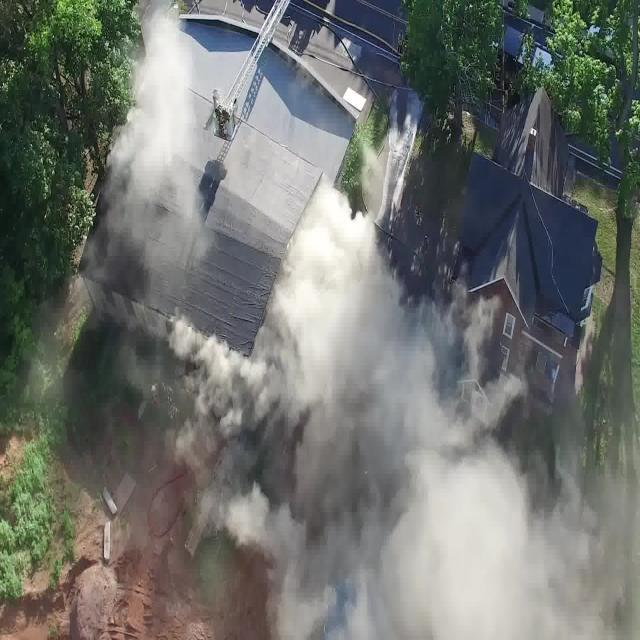smoke: (288, 236, 406, 630), (424, 464, 616, 640), (122, 44, 196, 247)
